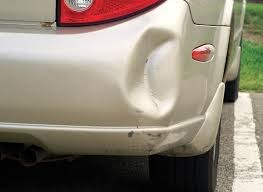Dent: (119, 26, 182, 116), (139, 128, 205, 159)
Scratch: (32, 17, 61, 30)
